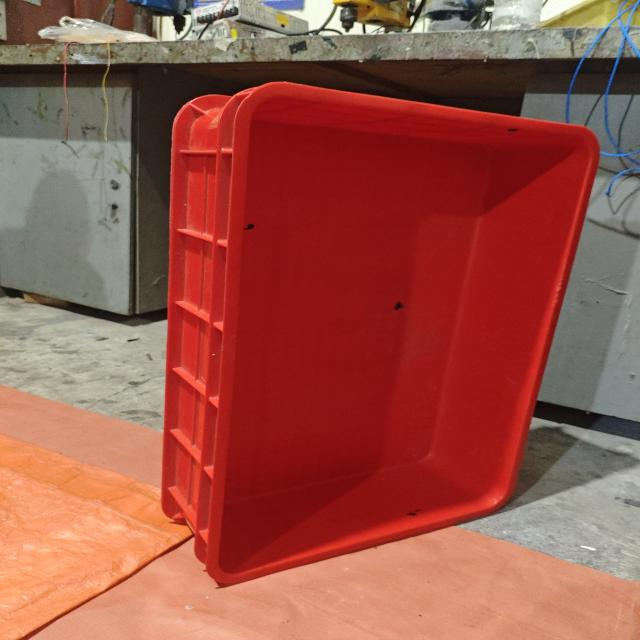red plastic box: (161, 81, 600, 586)
